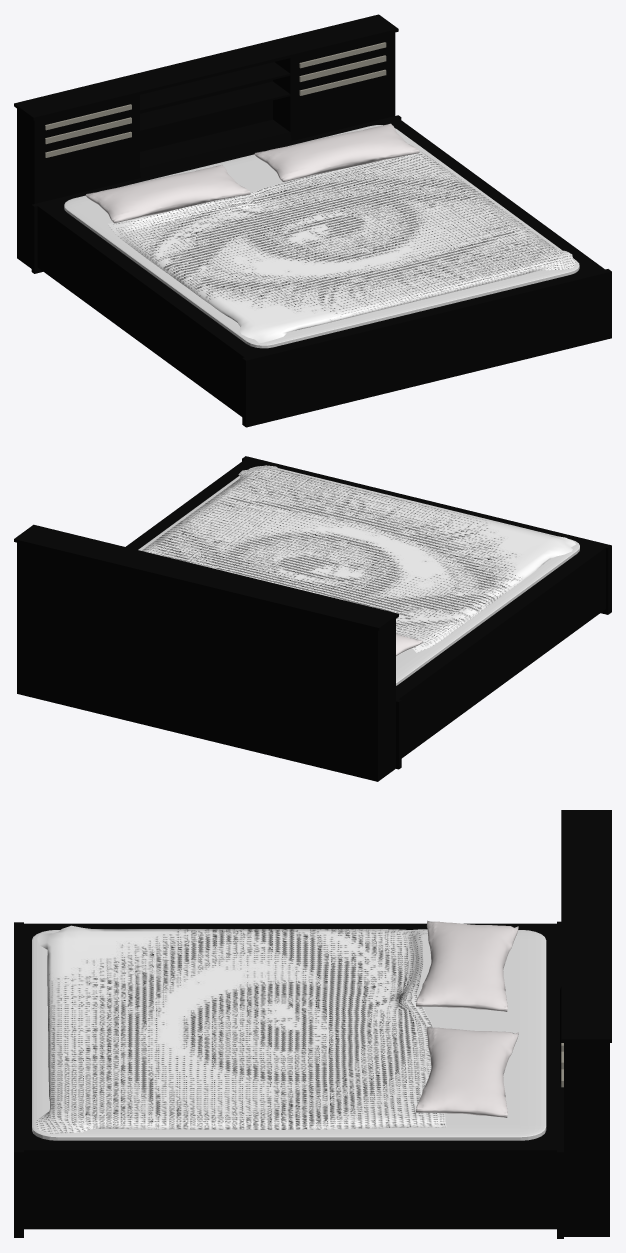
3 views of the same model, one above another, from view 1: azimuth 30°, elevation 25°; view 2: azimuth 150°, elevation 25°; view 3: azimuth 270°, elevation 25° (orthographic). The views are drawn at different scales.
Parts seen in each view (by area): view 1: bedroom-essentials-bed; view 2: bedroom-essentials-bed; view 3: bedroom-essentials-bed.
Part boxes in pixels (left/top/right/bottom): bedroom-essentials-bed: left=14, top=14, right=611, bottom=427; bedroom-essentials-bed: left=14, top=456, right=611, bottom=781; bedroom-essentials-bed: left=14, top=810, right=611, bottom=1238.
Bounding box in the file's own units: 0.912 × 0.3674 × 1.
5 materials, 1 textured.
